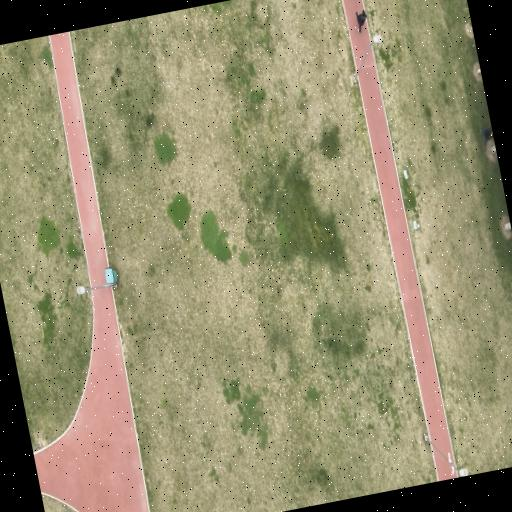person: (479, 127, 492, 147), (355, 9, 365, 32)
